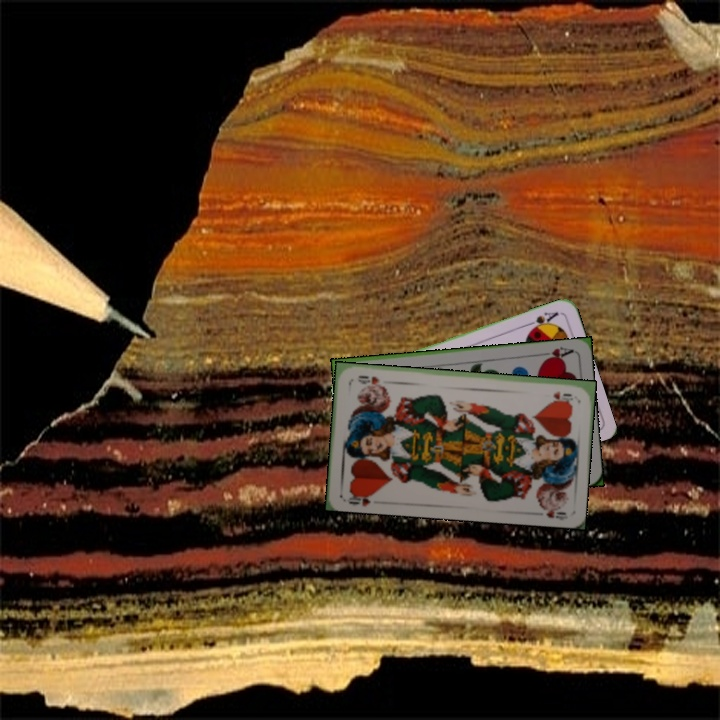HA: (535, 343, 576, 364)
HO: (345, 487, 377, 508), (549, 387, 576, 403)
SA: (523, 308, 561, 333)
